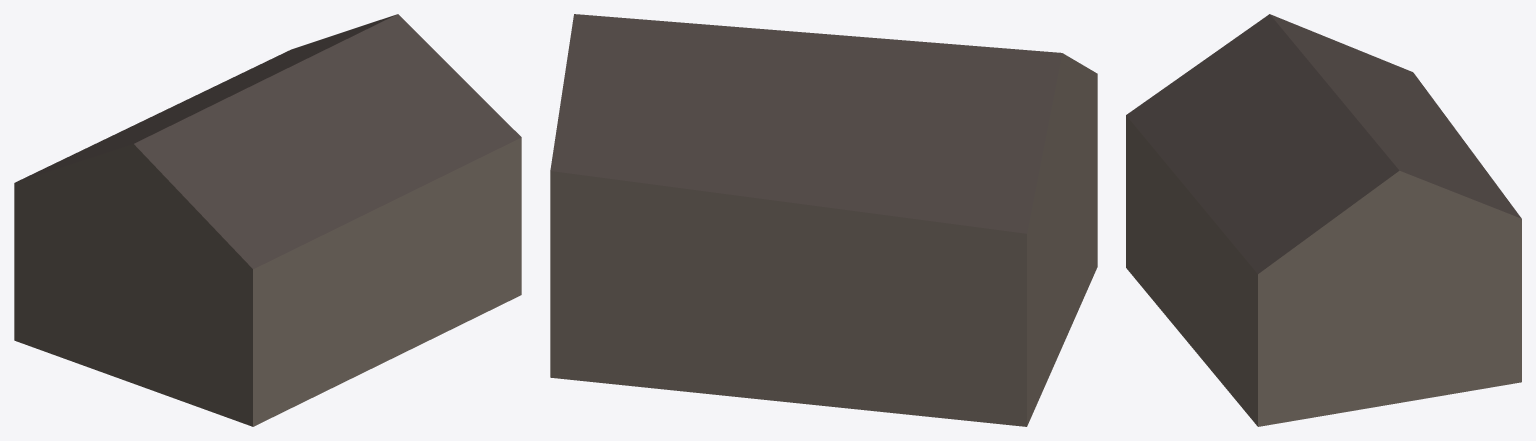
The picture shows the model from 3 angles, left to right: view 1: azimuth 30°, elevation 25°; view 2: azimuth 150°, elevation 25°; view 3: azimuth 270°, elevation 25°; orthographic projection. The views are drawn at different scales.
Visible parts, largest first — view 1: HP-w1512914118; view 2: HP-w1512914118; view 3: HP-w1512914118.
Part boxes in pixels (<box>): HP-w1512914118: <box>14,14,521,426</box>; HP-w1512914118: <box>550,14,1097,426</box>; HP-w1512914118: <box>1126,14,1521,426</box>.
Size of the model in its own units: 17.03 by 9.13 by 14.1.
